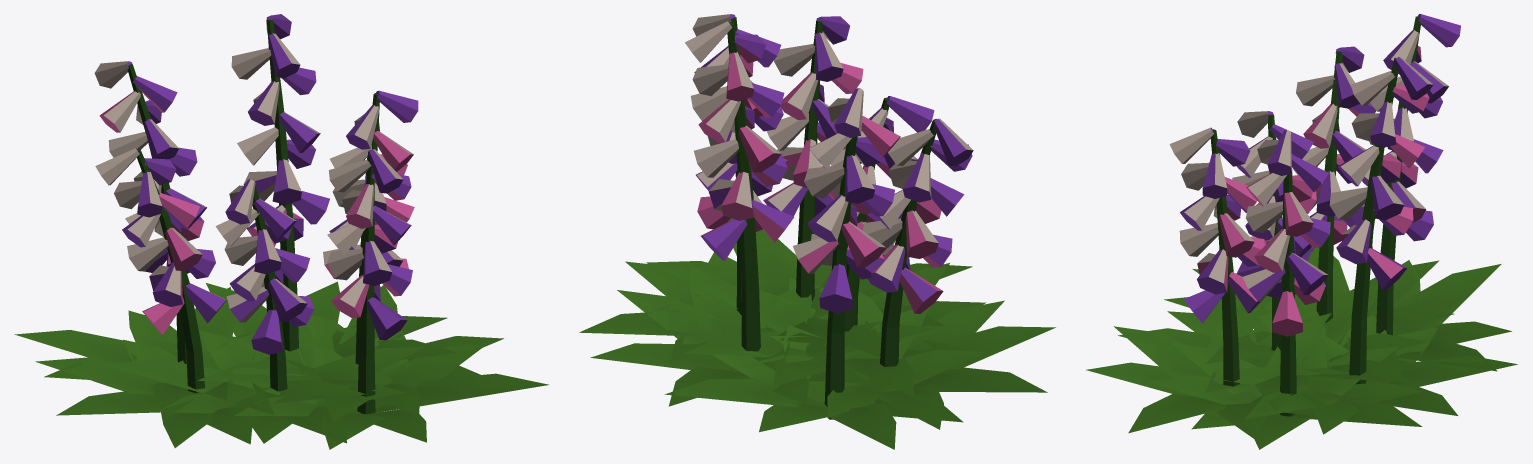
File: Flowers_Foxglove.glb
3 renders of one model, left to right at view 1: azimuth 30°, elevation 25°; view 2: azimuth 150°, elevation 25°; view 3: azimuth 270°, elevation 25°, orthographic. The views are drawn at different scales.
Parts seen in each view (by area): view 1: Flowers_Foxglove__Blooms, Flowers_Foxglove__Stems; view 2: Flowers_Foxglove__Blooms, Flowers_Foxglove__Stems; view 3: Flowers_Foxglove__Blooms, Flowers_Foxglove__Stems.
Part boxes in pixels (x1,y1,x2,y2): Flowers_Foxglove__Blooms: (14, 14, 549, 449); Flowers_Foxglove__Stems: (127, 19, 379, 414); Flowers_Foxglove__Blooms: (579, 14, 1055, 449); Flowers_Foxglove__Stems: (727, 17, 936, 419); Flowers_Foxglove__Blooms: (1086, 14, 1517, 449); Flowers_Foxglove__Stems: (1210, 16, 1420, 416).
Size of the model in its own units: 6.92 by 5.48 by 6.19.
Materials: 1 (1 with a texture image).
